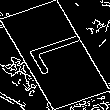L_NE: (16, 30, 94, 80)
